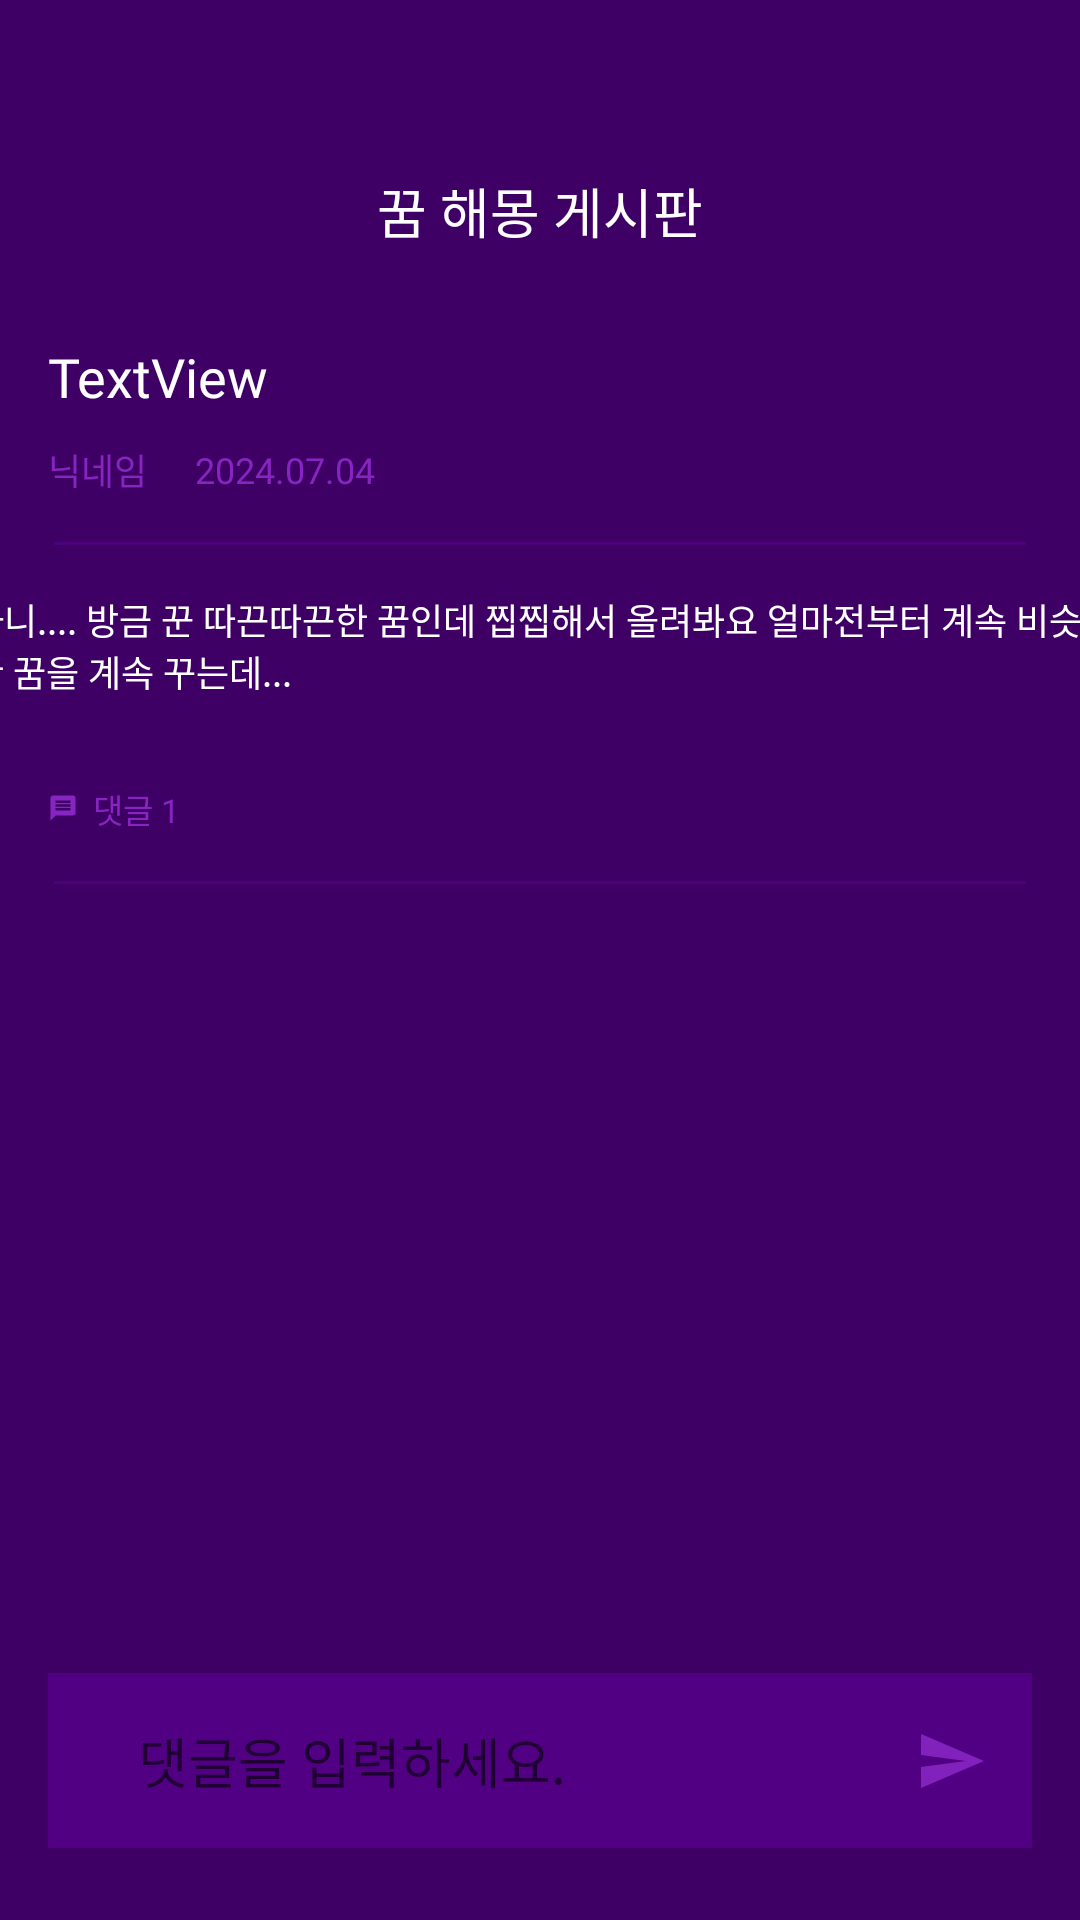

Icons on this 1080 x 1920 Android screen, each with the point to tap as (x,y):
message: (63,807)
send: (952,1761)
